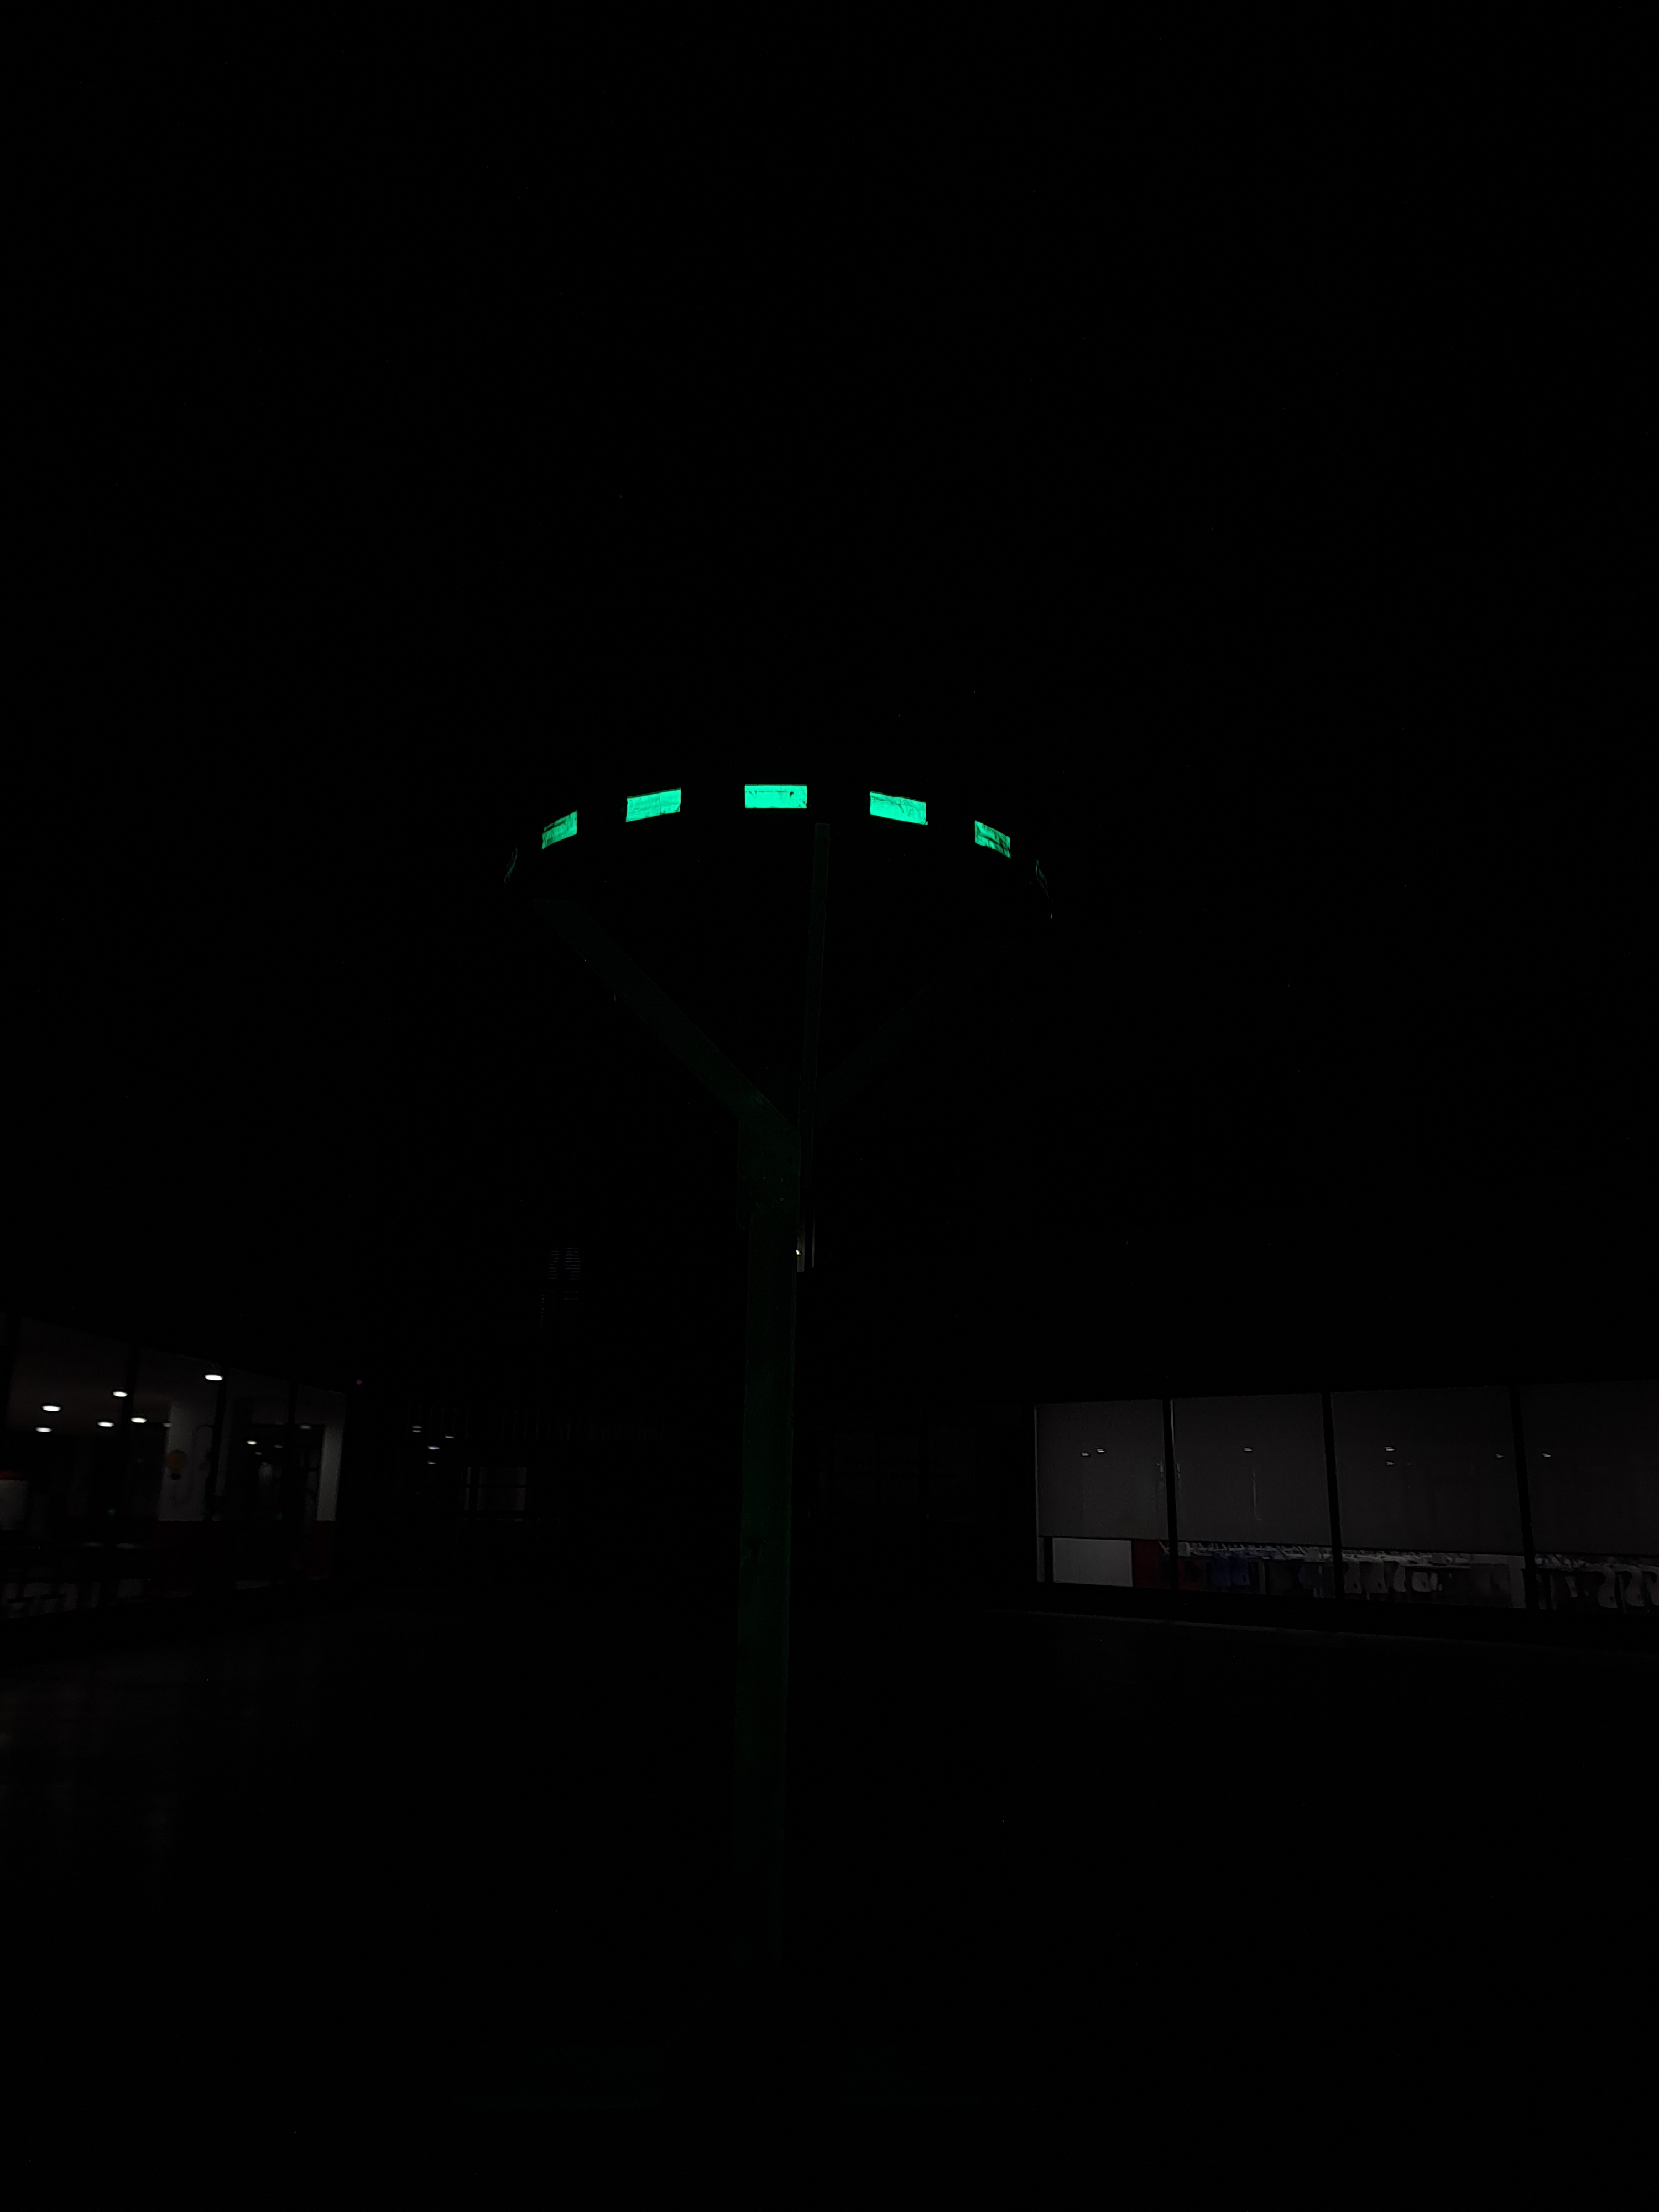hoop: (533, 772, 1018, 883)
